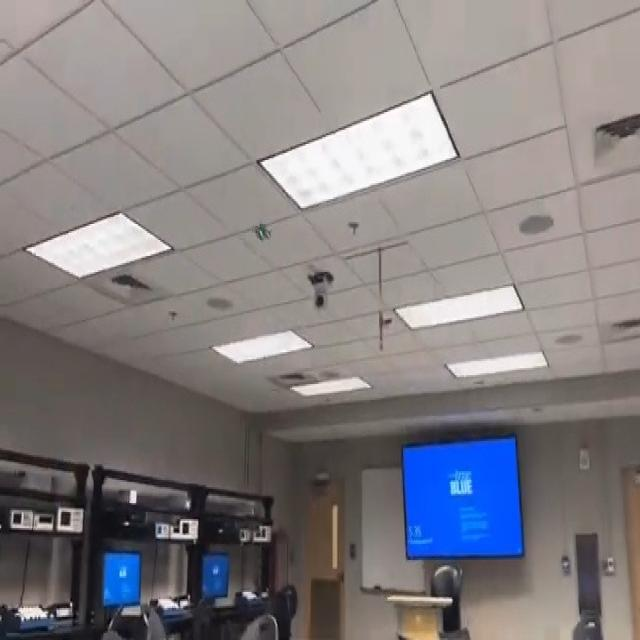drone: (245, 210, 275, 254)
